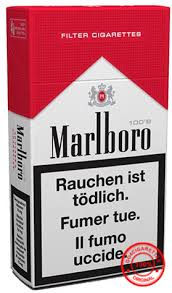marlboro: (34, 8, 169, 287)
